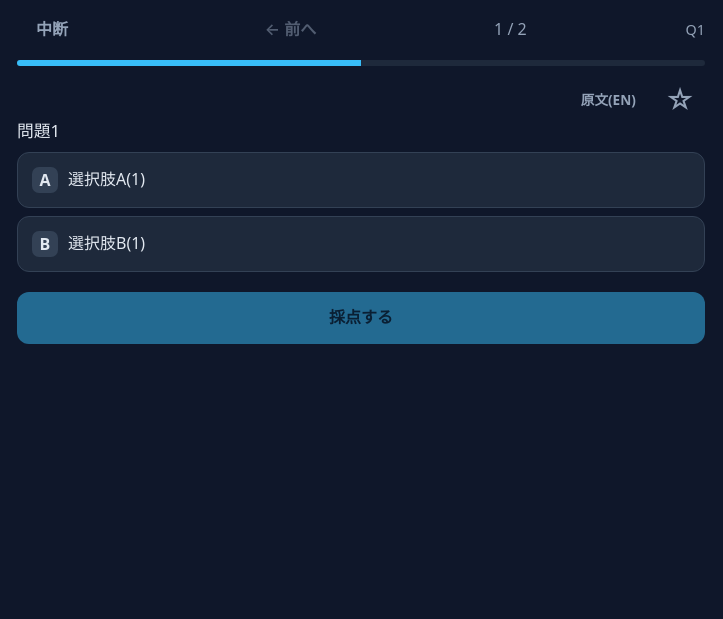
Scenario: Quiz 前へ戻る（初回回答のみ採用） › 先頭では「前へ」が無効、回答して進むと有効になる
The width and height of the screenshot is (723, 619).
Expected: the button with aria-label "前の問題へ" is disabled, [246, 4, 335, 56]
Click the text "選択肢B(1)": (107, 244) [68, 232, 145, 254]
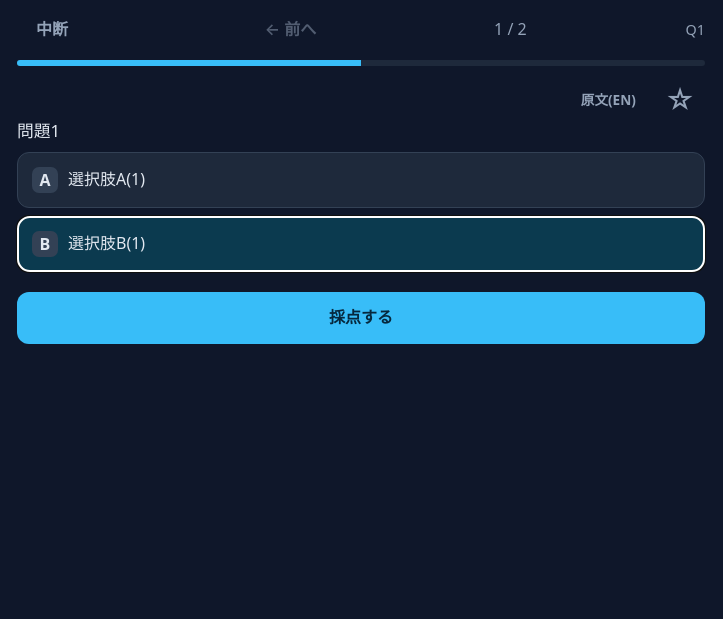
Click the button "採点する": (361, 318) [17, 292, 705, 344]
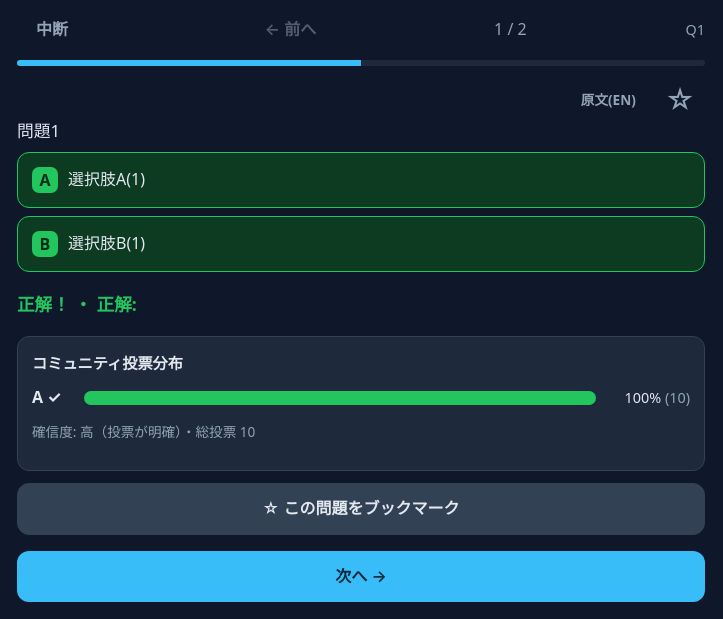
Click the button "次へ →": (361, 576) [17, 551, 705, 602]
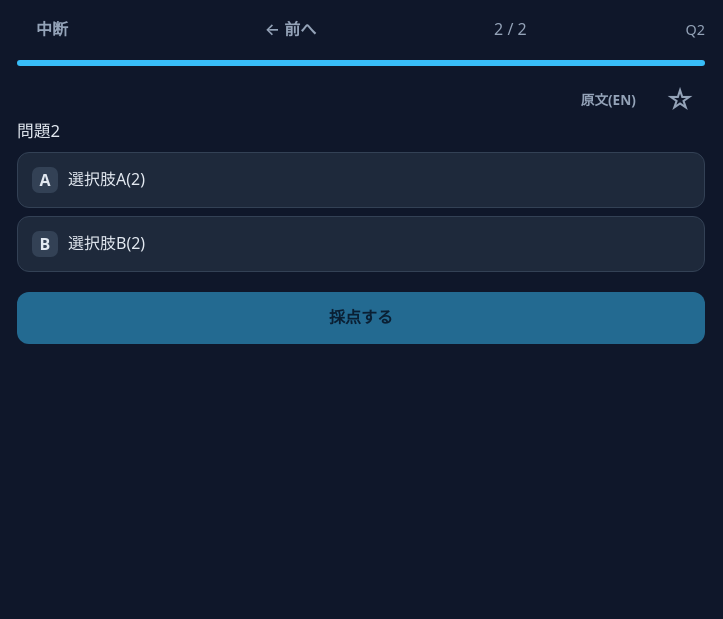
Result: the text "問題2" is shown at [17, 119, 60, 142]
Result: the button with aria-label "前の問題へ" is enabled at [246, 4, 335, 56]
